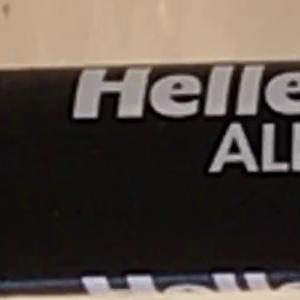ALK: (200, 114, 298, 182)
